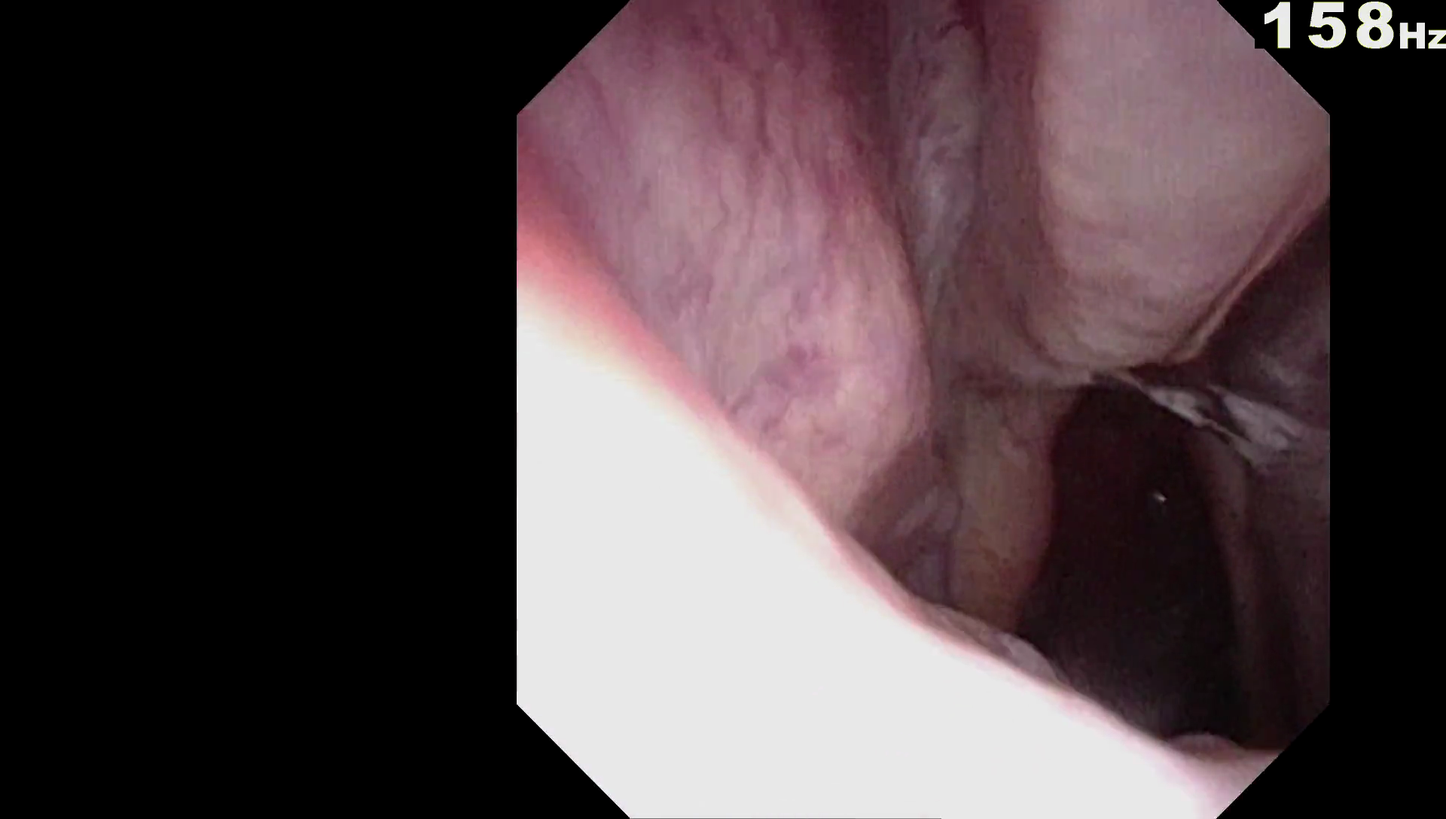close_wall: (581, 281, 1203, 748)
next: (1013, 355, 1263, 769)
